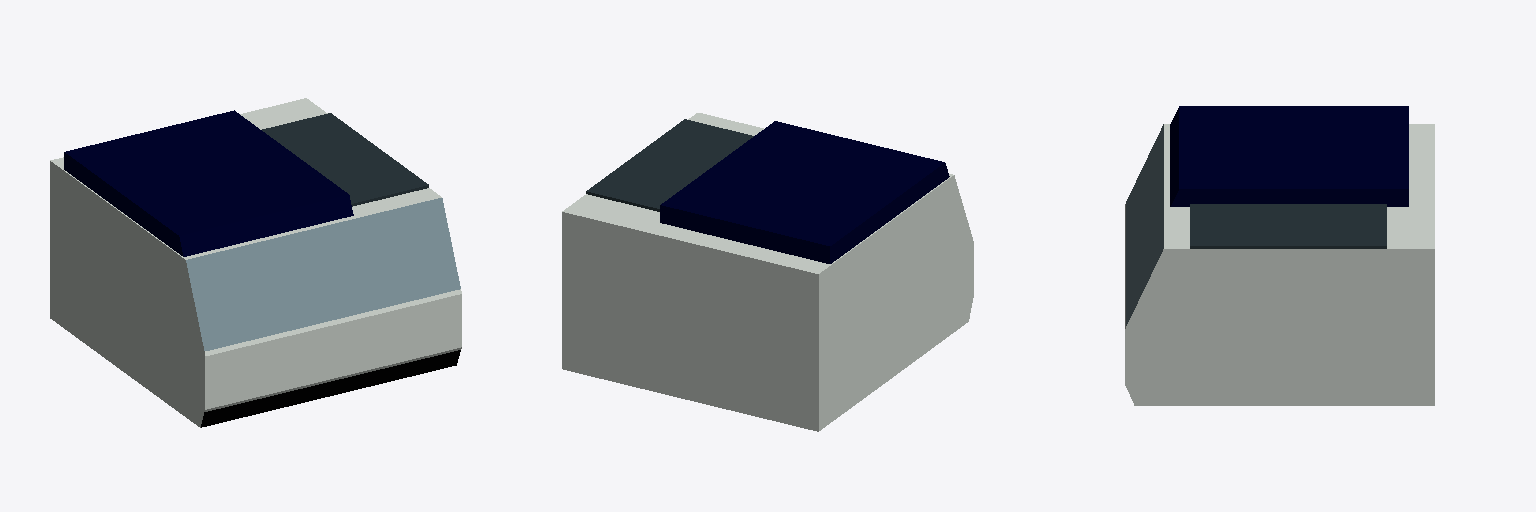
Rendered from Benchtop Centrifuge.obj.
3 views of the same model, side by side, from view 1: azimuth 30°, elevation 25°; view 2: azimuth 150°, elevation 25°; view 3: azimuth 270°, elevation 25° (orthographic).
Visible parts, largest first — view 1: object1, object4, object2, object5, object3; view 2: object1, object4, object5; view 3: object1, object4, object5, object2.
Boxes of the visible parts, x1,y1,x2,y2 form: object1: [50, 98, 461, 427]; object4: [64, 110, 353, 256]; object2: [186, 198, 460, 350]; object5: [262, 113, 428, 206]; object3: [201, 350, 460, 427]; object1: [562, 113, 973, 431]; object4: [660, 121, 949, 263]; object5: [586, 119, 753, 211]; object1: [1125, 124, 1434, 405]; object4: [1170, 106, 1408, 206]; object5: [1190, 204, 1386, 248]; object2: [1126, 124, 1163, 325].
Size of the model in its own units: 22.35 by 14.62 by 23.45.